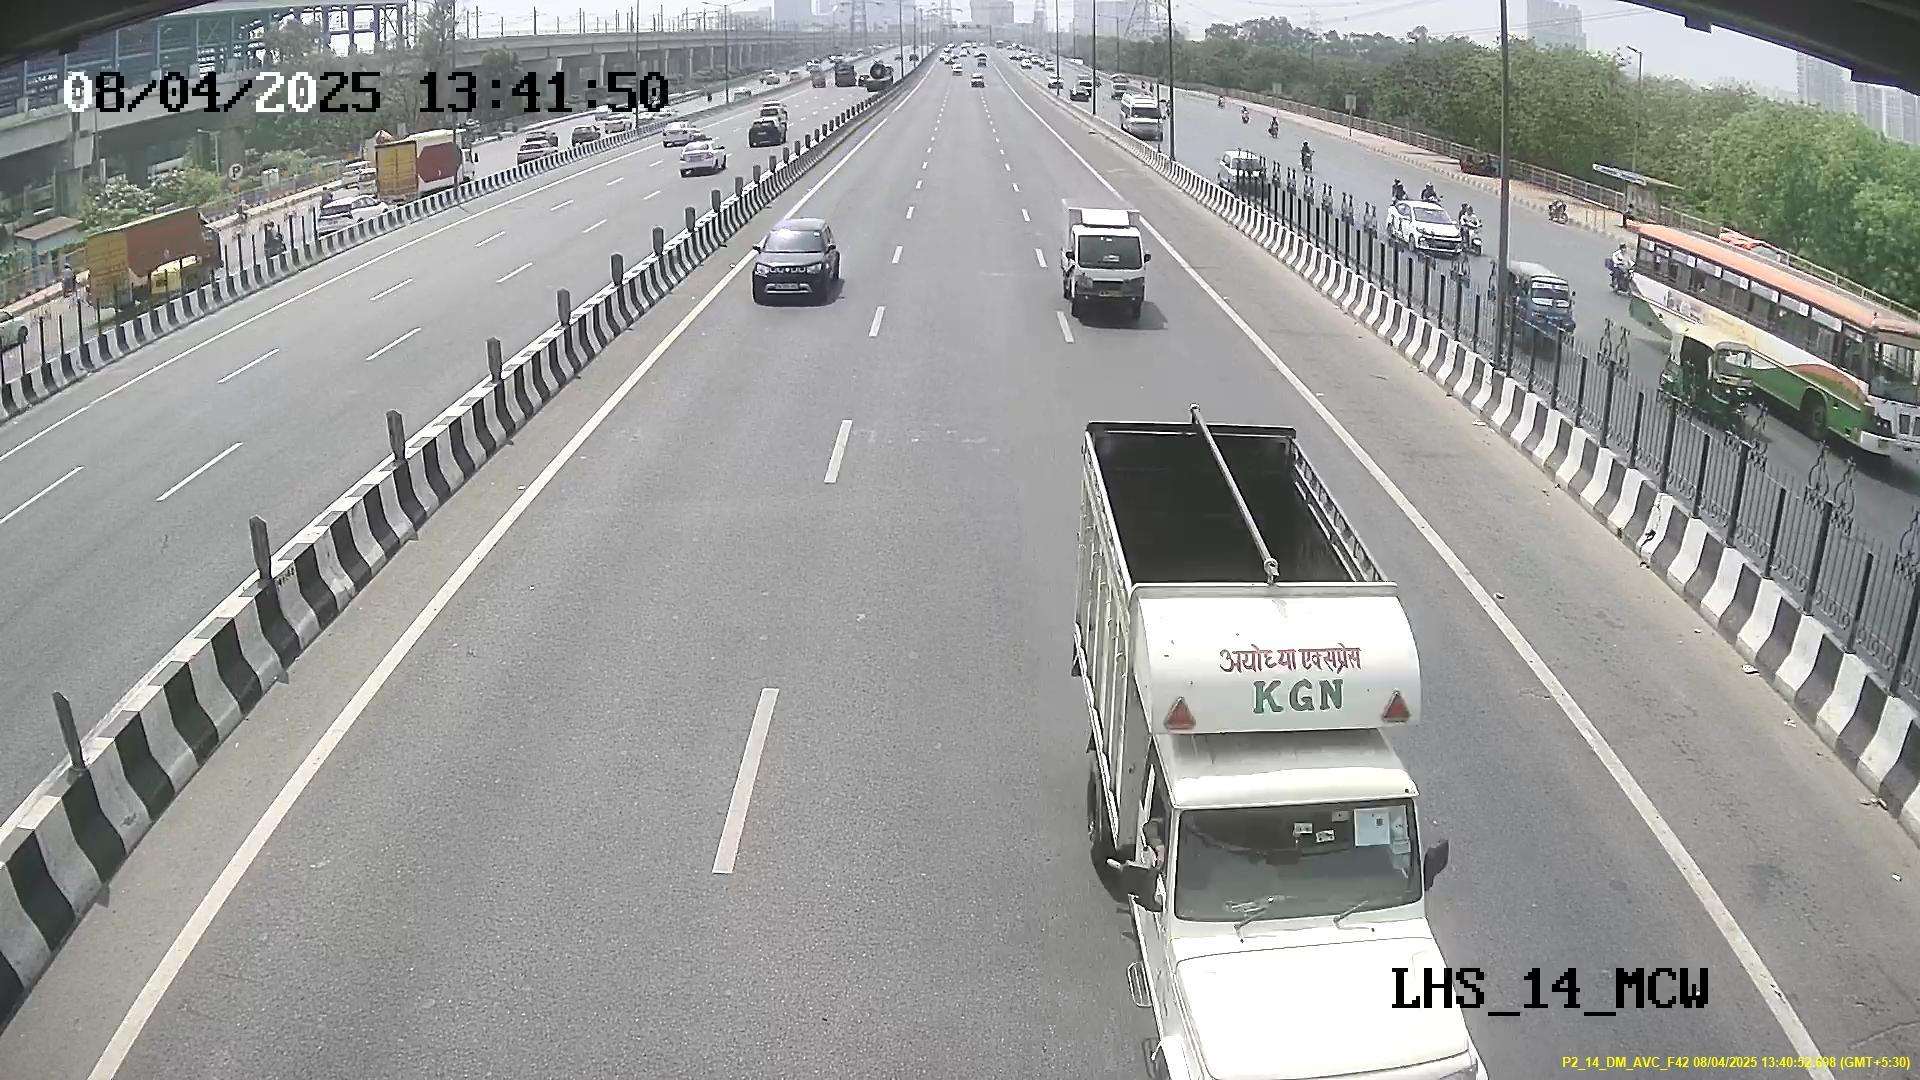car: (1059, 203, 1149, 320), (744, 220, 840, 303)
